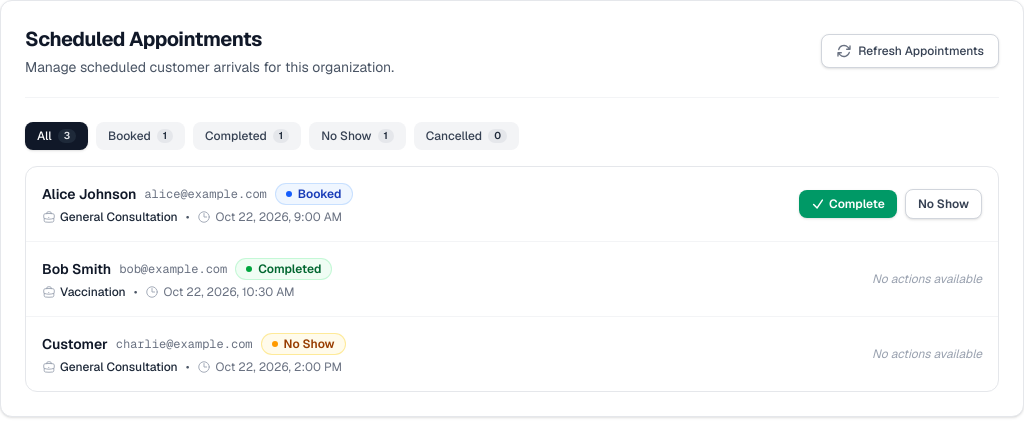
StaffAppointmentsManagement › filters appointments by status when filter pill is clicked
The width and height of the screenshot is (1024, 435).
Expected: the text "Alice Johnson" is shown, [42,184,136,204]
Expected: the button "Completed 1" is shown, [193,122,301,150]
Filter to BOOKED
Click the button "Booked 1" at (141, 136), box [96,122,185,150]
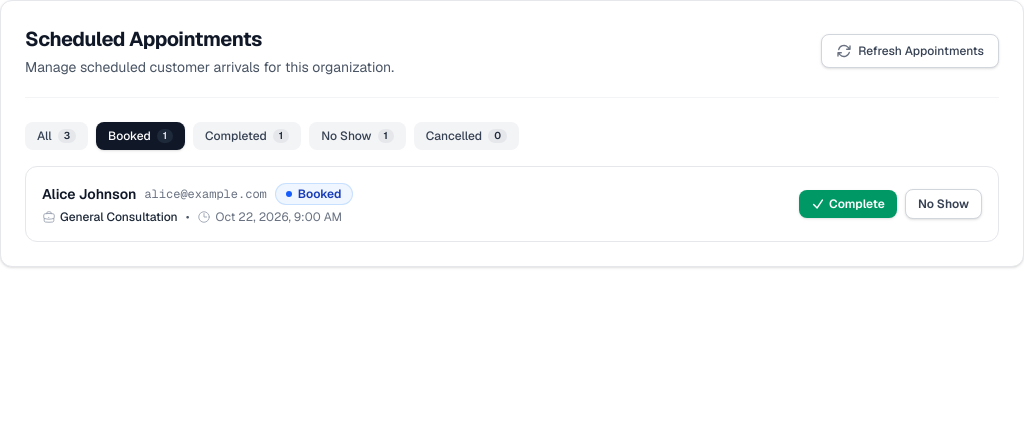
Expected: the text "Alice Johnson" is shown, [42,184,136,204]
Now the text "Bob Smith" is gone
Now the text "charlie@example.com" is gone
Filter to CANCELLED (0 matches)
Click the button "Cancelled 0" at (466, 136), box [414,122,519,150]
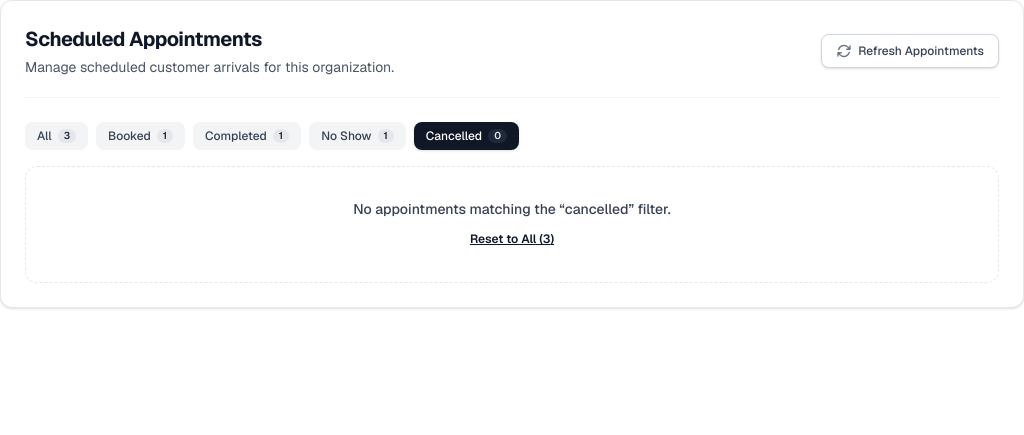
Now the text "No appointments matching the “cancelled” filter." is shown, box [353,200,671,218]
Now the button "Reset to All (3)" is shown
Reset to All
Click the button "Reset to All (3)" at (512, 239), box [470,231,554,247]
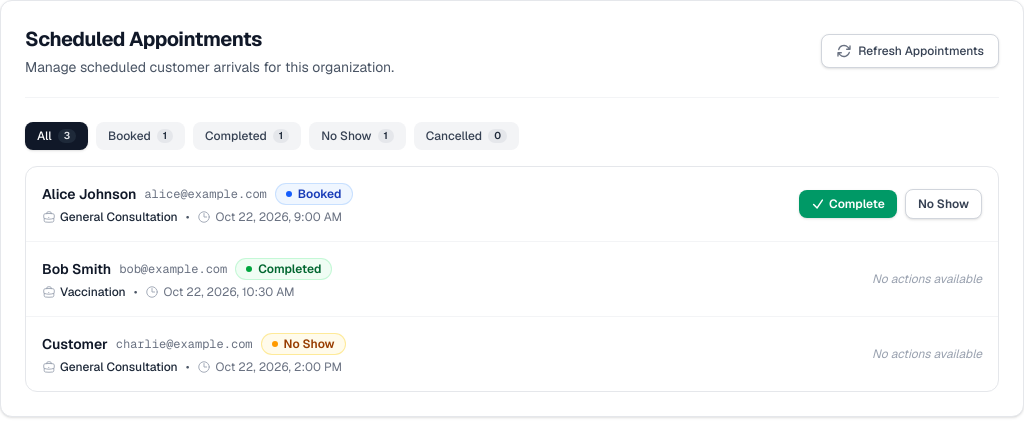
Now the text "Alice Johnson" is shown, box [42,184,136,204]
Now the text "Bob Smith" is shown, box [42,259,111,279]
